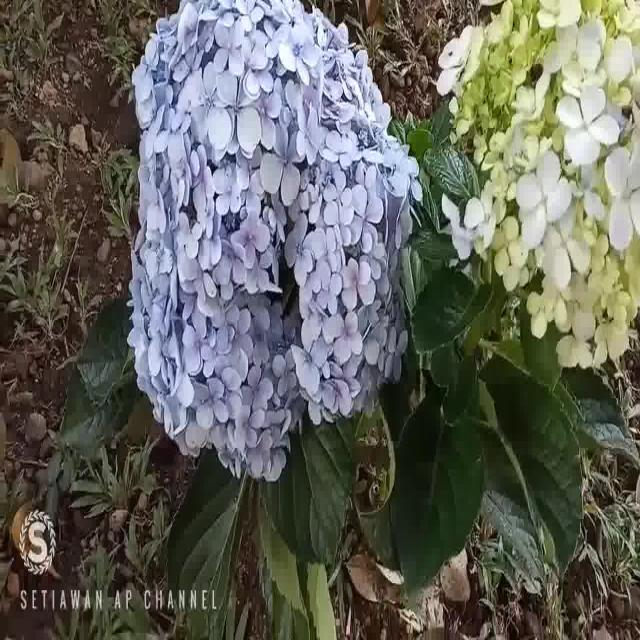Flower: (124, 1, 414, 480), (451, 1, 640, 371)
